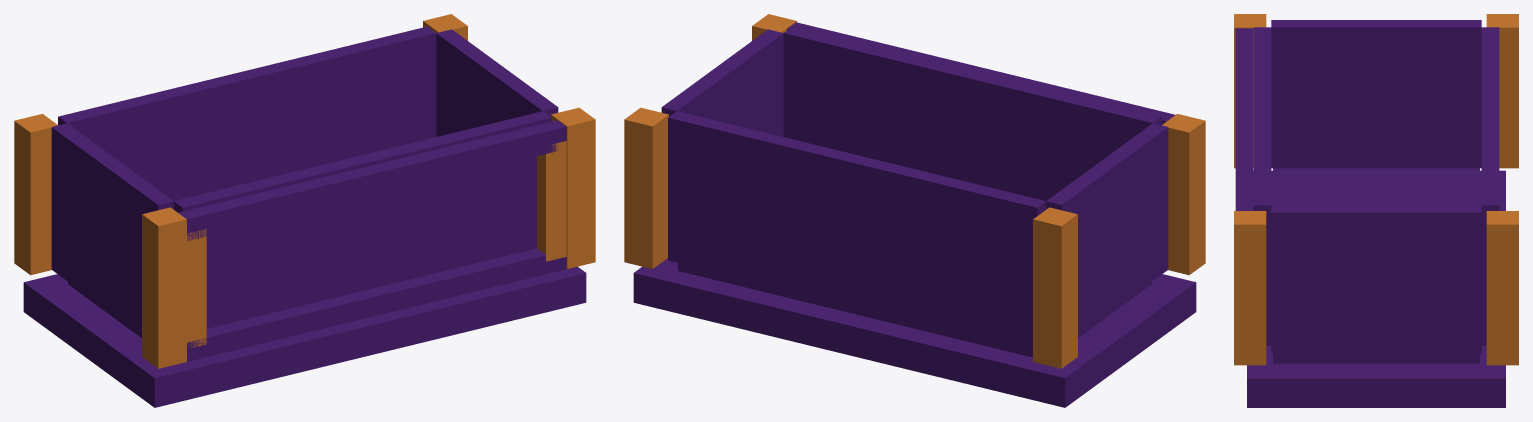
File: BF_Chest_lod0_nla_test.glb
3 views of the same model, side by side, from view 1: azimuth 30°, elevation 25°; view 2: azimuth 150°, elevation 25°; view 3: azimuth 270°, elevation 25° (orthographic).
Parts seen in each view (by area): view 1: BF_Chest_BodyRear, BF_Chest_BodyFront, BF_Chest_Plinth, BF_Chest_BodySide_L, BF_Chest_FrontRail_Top, BF_Chest_FrontRail_Bottom, BF_Chest_BodySide_R, BF_Chest_Corner_L_F, BF_Chest_Corner_L_B, BF_Chest_Corner_R_F, BF_Chest_FrontTrim_R, BF_Chest_FrontTrim_L (+1 smaller); view 2: BF_Chest_BodyRear, BF_Chest_BodyFront, BF_Chest_Plinth, BF_Chest_BodySide_L, BF_Chest_BodySide_R, BF_Chest_Corner_L_B, BF_Chest_Corner_R_B, BF_Chest_Corner_L_F, BF_Chest_BodyFloor, BF_Chest_FrontRail_Top, BF_Chest_Corner_R_F; view 3: BF_Chest_BodySide_L, BF_Chest_BodySide_R, BF_Chest_Plinth, BF_Chest_BodyFloor, BF_Chest_Corner_R_B, BF_Chest_Corner_R_F, BF_Chest_BodyFront, BF_Chest_BodyRear, BF_Chest_FrontRail_Top, BF_Chest_Corner_L_B, BF_Chest_Corner_L_F.
Part boxes in pixels (x1,y1,x2,y2): BF_Chest_BodyRear: (58,26,436,200); BF_Chest_BodyFront: (173,111,551,328); BF_Chest_Plinth: (23,266,586,407); BF_Chest_BodySide_L: (51,123,173,335); BF_Chest_FrontRail_Top: (178,120,566,241); BF_Chest_FrontRail_Bottom: (187,248,566,361); BF_Chest_BodySide_R: (436,29,558,136); BF_Chest_Corner_L_F: (142,207,186,368); BF_Chest_Corner_L_B: (14,114,57,275); BF_Chest_Corner_R_F: (551,107,595,268); BF_Chest_FrontTrim_R: (537,141,566,261); BF_Chest_FrontTrim_L: (187,229,206,347); BF_Chest_BodyRear: (668,111,1046,349); BF_Chest_BodyFront: (783,26,1161,200); BF_Chest_Plinth: (633,258,1196,407); BF_Chest_BodySide_L: (1046,123,1168,335); BF_Chest_BodySide_R: (661,29,783,136); BF_Chest_Corner_L_B: (1033,207,1077,368); BF_Chest_Corner_R_B: (624,107,668,268); BF_Chest_Corner_L_F: (1162,114,1205,275); BF_Chest_BodyFloor: (678,263,1151,357); BF_Chest_FrontRail_Top: (787,22,1175,124); BF_Chest_Corner_R_F: (752,14,796,40); BF_Chest_BodySide_L: (1271,20,1481,168); BF_Chest_BodySide_R: (1271,205,1481,353); BF_Chest_Plinth: (1247,170,1505,407); BF_Chest_BodyFloor: (1273,168,1479,363); BF_Chest_Corner_R_B: (1486,211,1518,365); BF_Chest_Corner_R_F: (1234,211,1266,365); BF_Chest_BodyFront: (1253,27,1271,345); BF_Chest_BodyRear: (1481,27,1499,345); BF_Chest_FrontRail_Top: (1235,28,1253,210); BF_Chest_Corner_L_B: (1486,14,1518,168); BF_Chest_Corner_L_F: (1234,14,1266,168).
Bounding box in the file's own units: 1.54 × 0.64 × 0.88.
